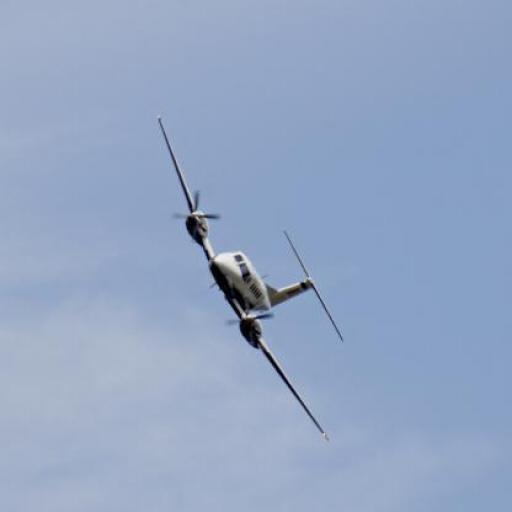aircraft: (156, 114, 347, 445)
